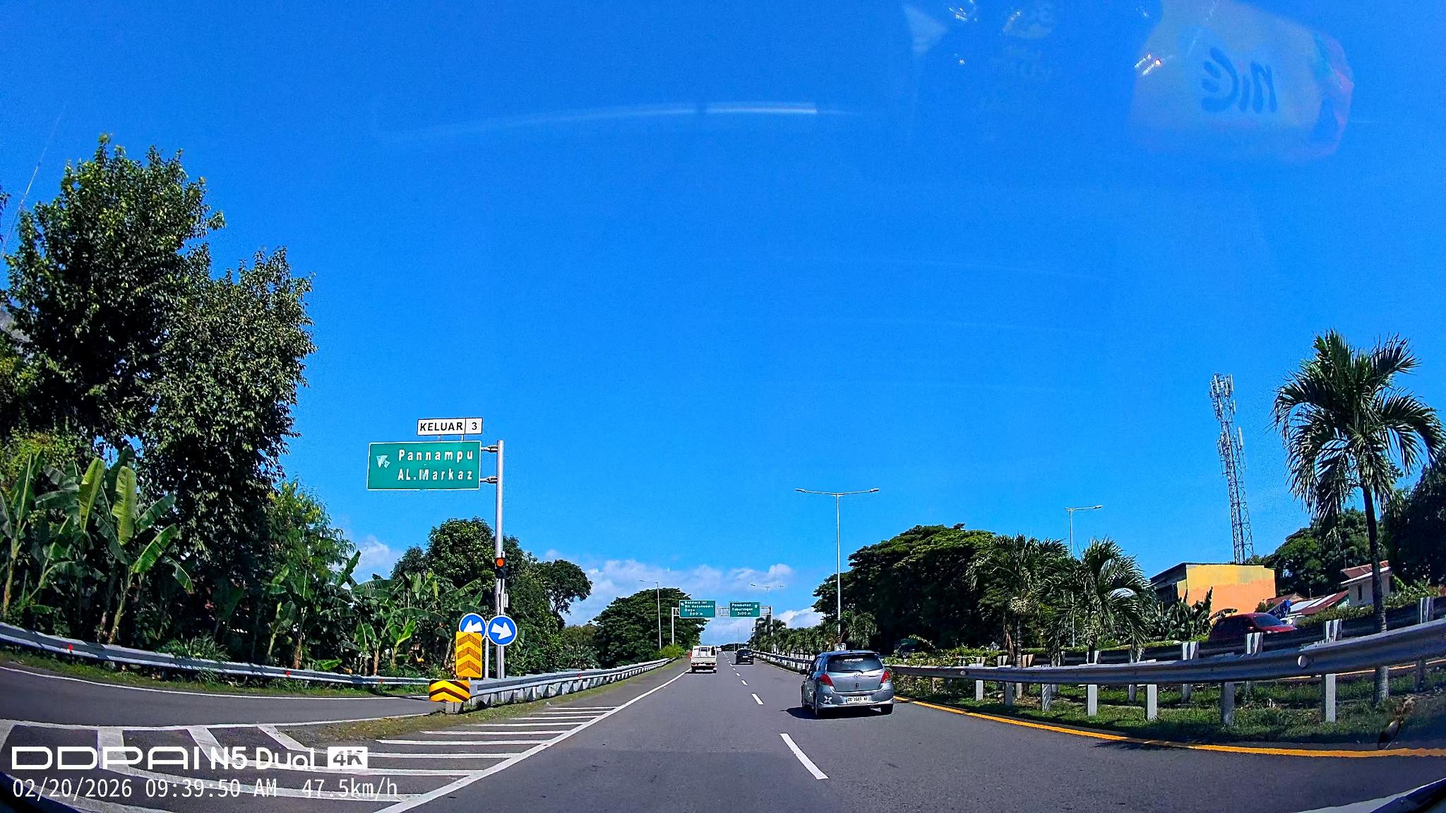rambu_teks: (366, 440, 481, 490)
